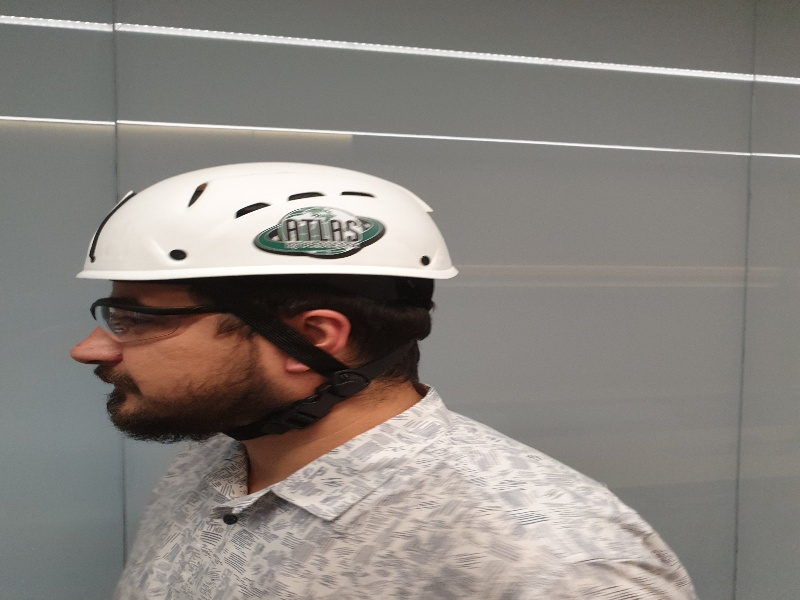Baret: (85, 165, 457, 278)
Gozluk: (90, 298, 261, 339)
